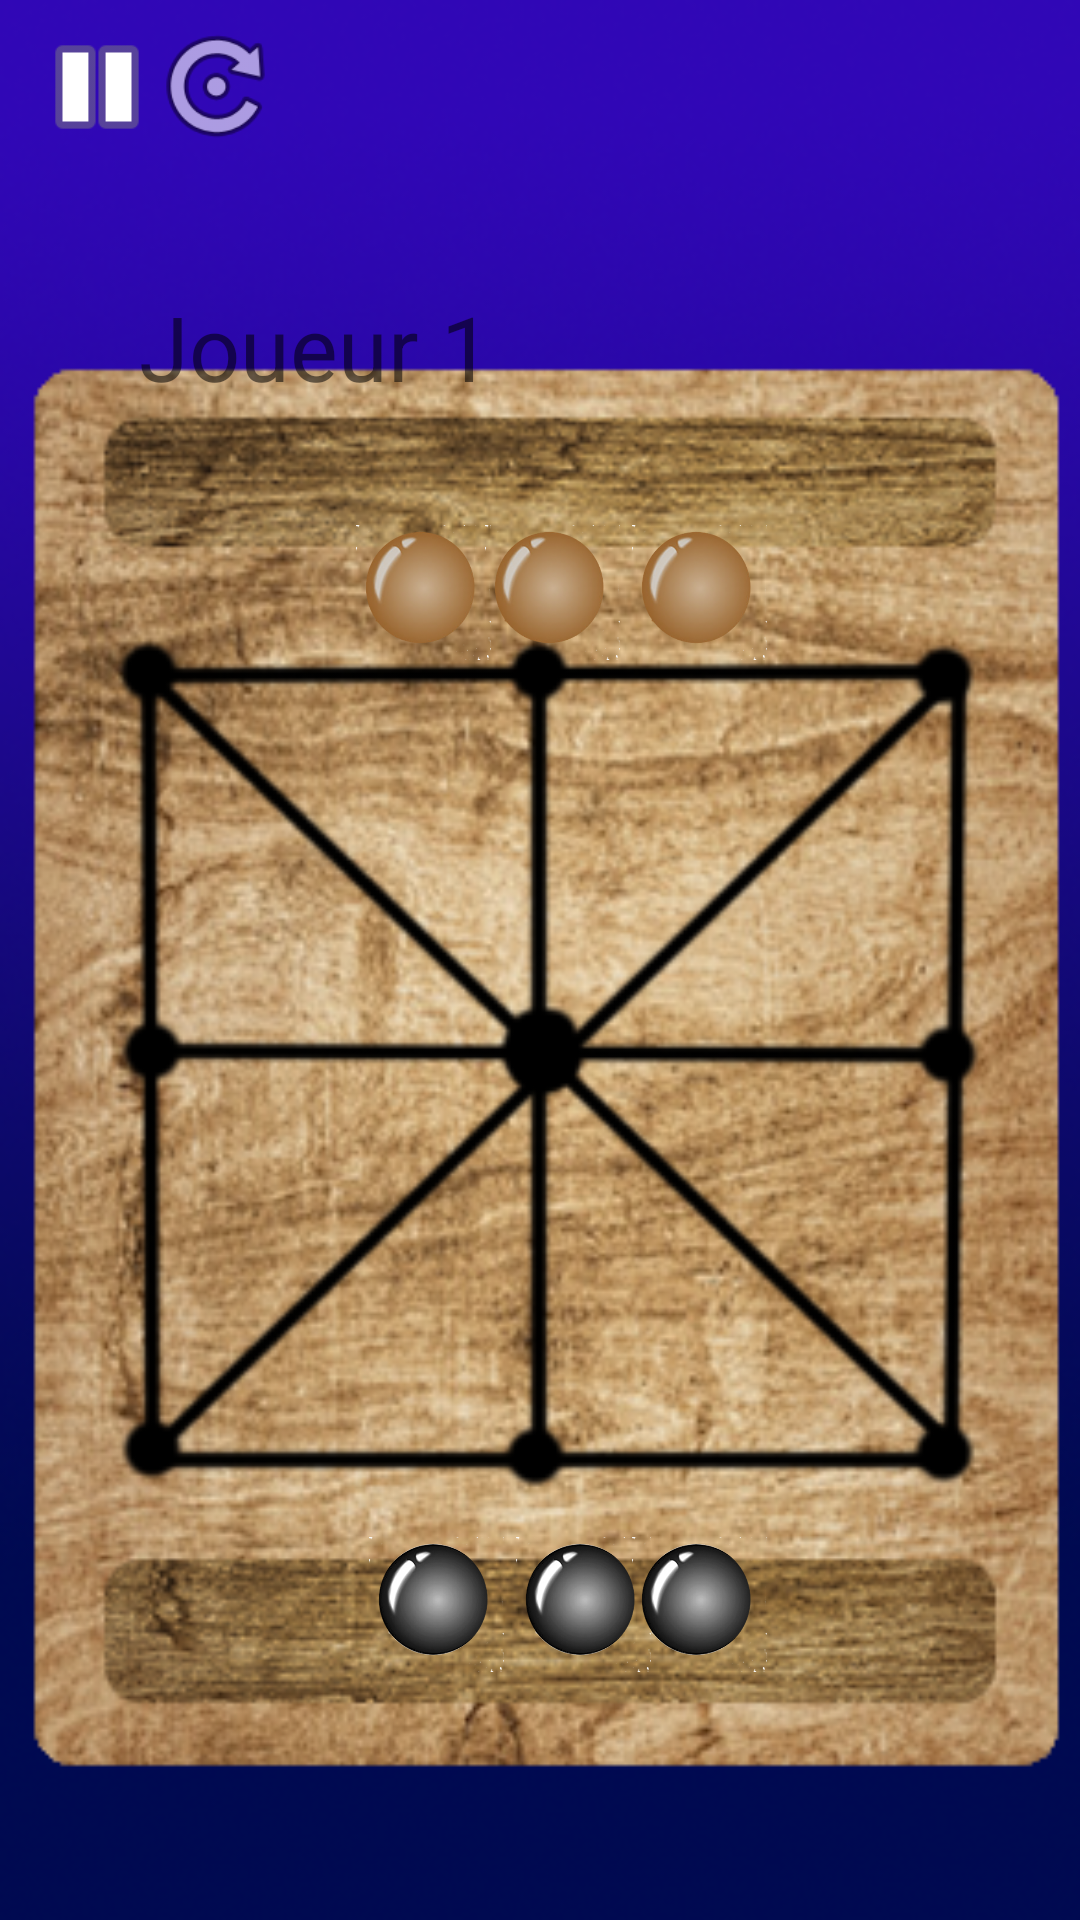

Screen size 1080w x 1920h. Icon name, then its center in pixels as (x=x, y=y):
pause: (x=97, y=87)
pionj: (x=423, y=592), (x=552, y=592), (x=699, y=592)
pionn: (x=436, y=1604), (x=583, y=1604), (x=699, y=1604)
rotate: (x=215, y=86)
